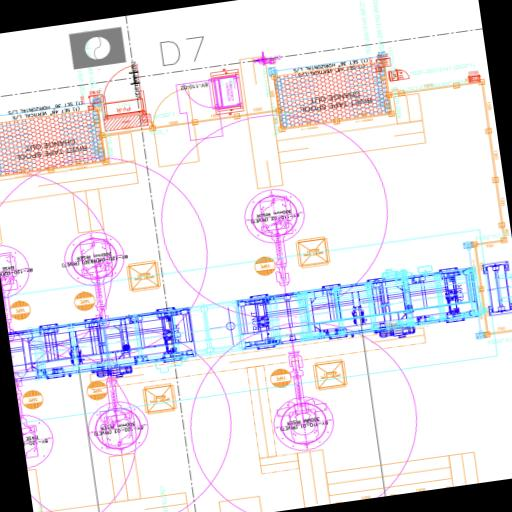robot: (261, 348, 340, 460), (238, 182, 317, 292), (56, 225, 137, 332), (78, 362, 154, 462)
